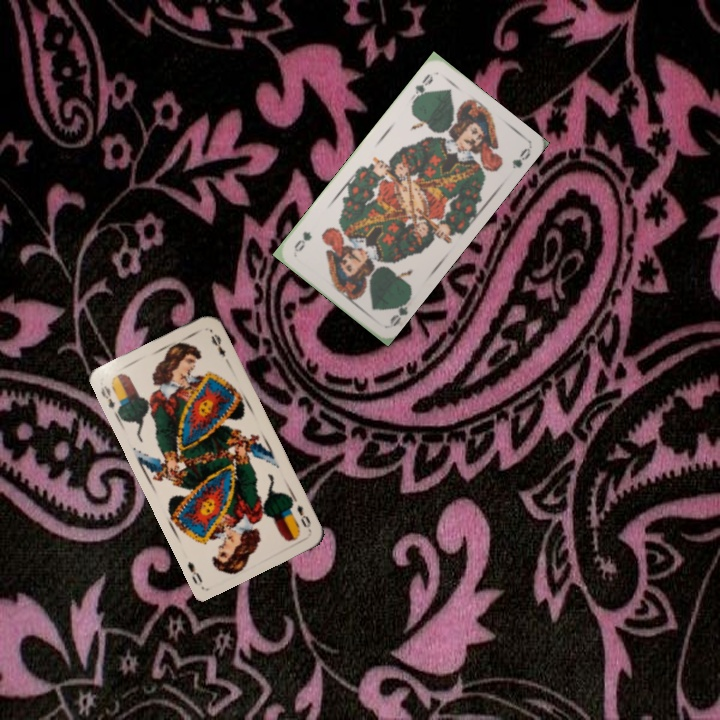EO: (97, 381, 124, 418), (293, 501, 314, 530)
GO: (386, 292, 414, 329), (408, 69, 436, 106)
